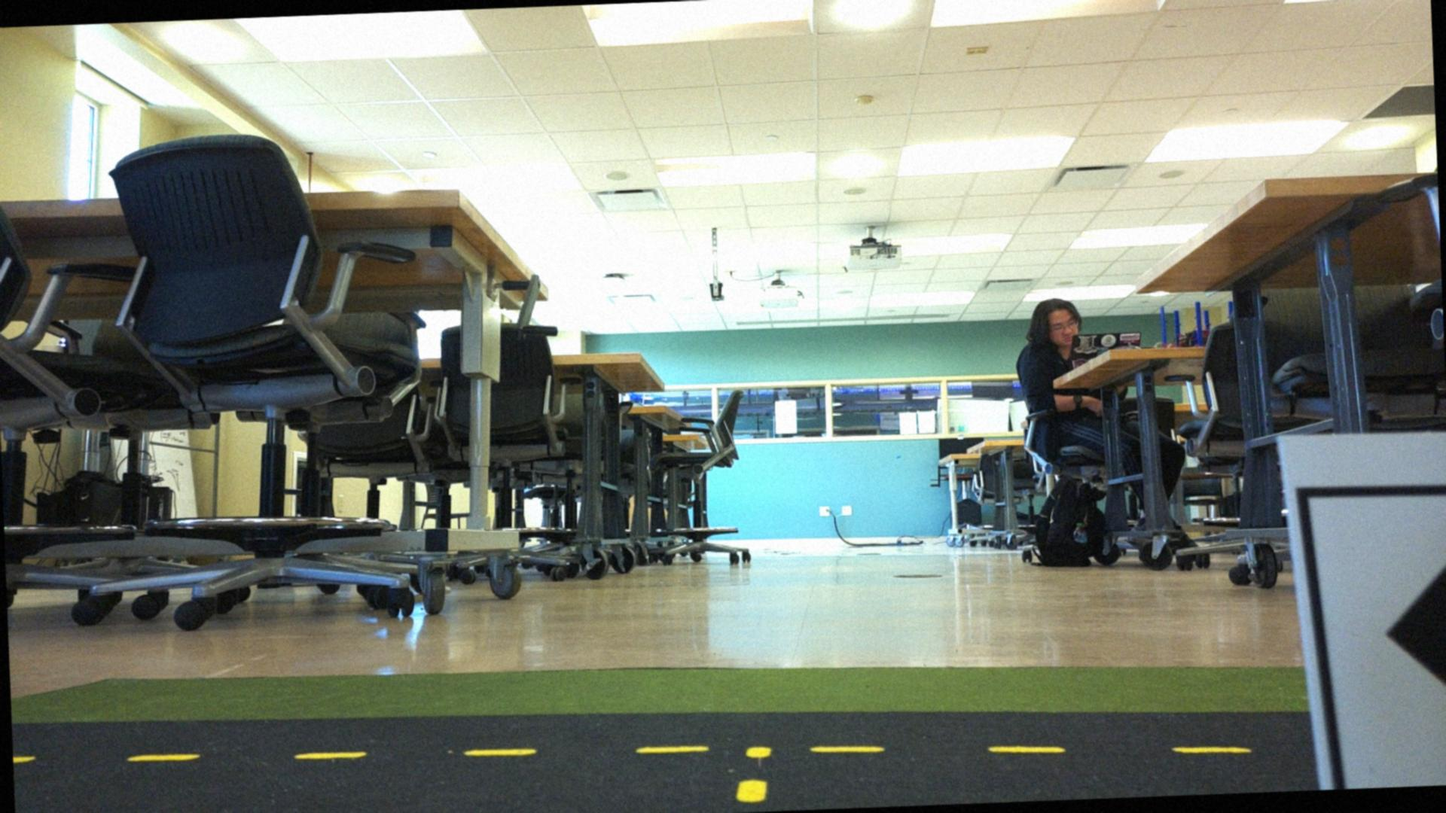yellowline: (12, 696, 1245, 801)
